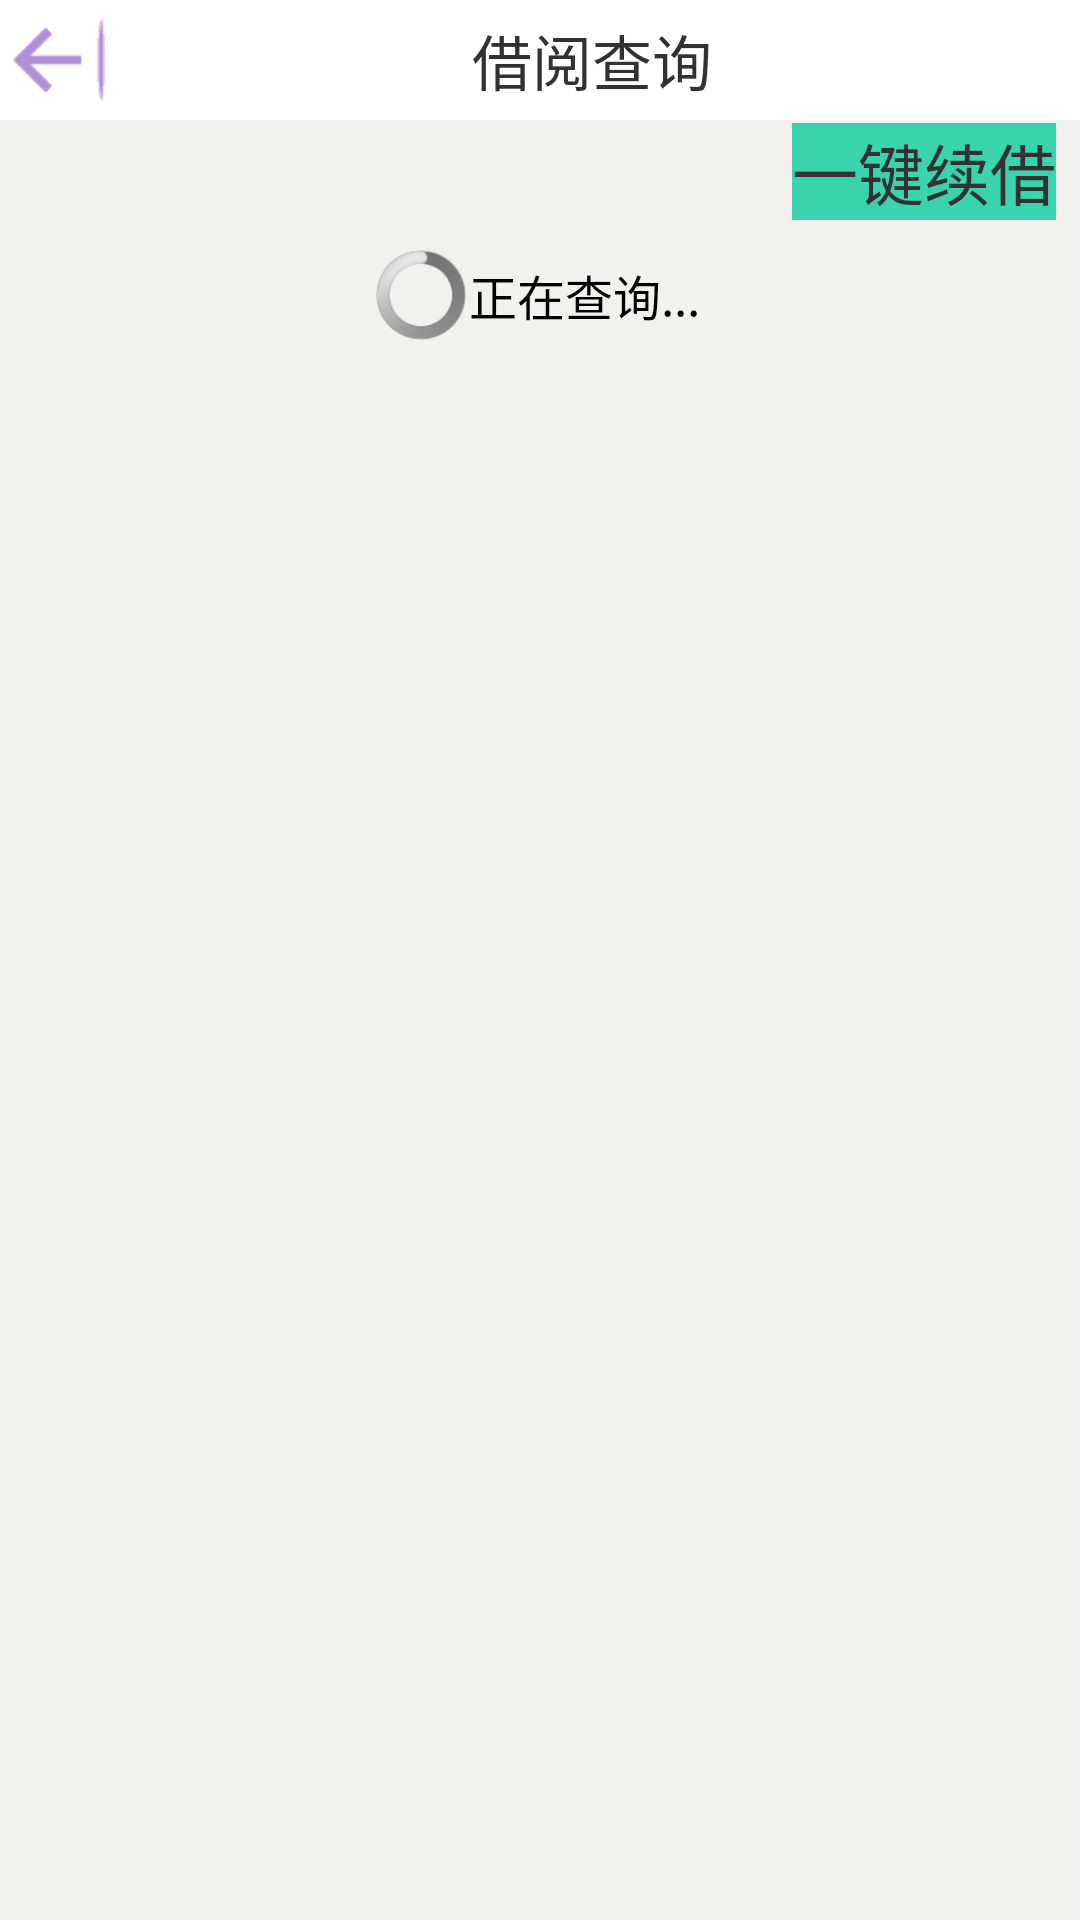

Named icons in this screenshot (1080px×1920px) and their centers, point (x, y):
返回主菜单: point (59, 60)
